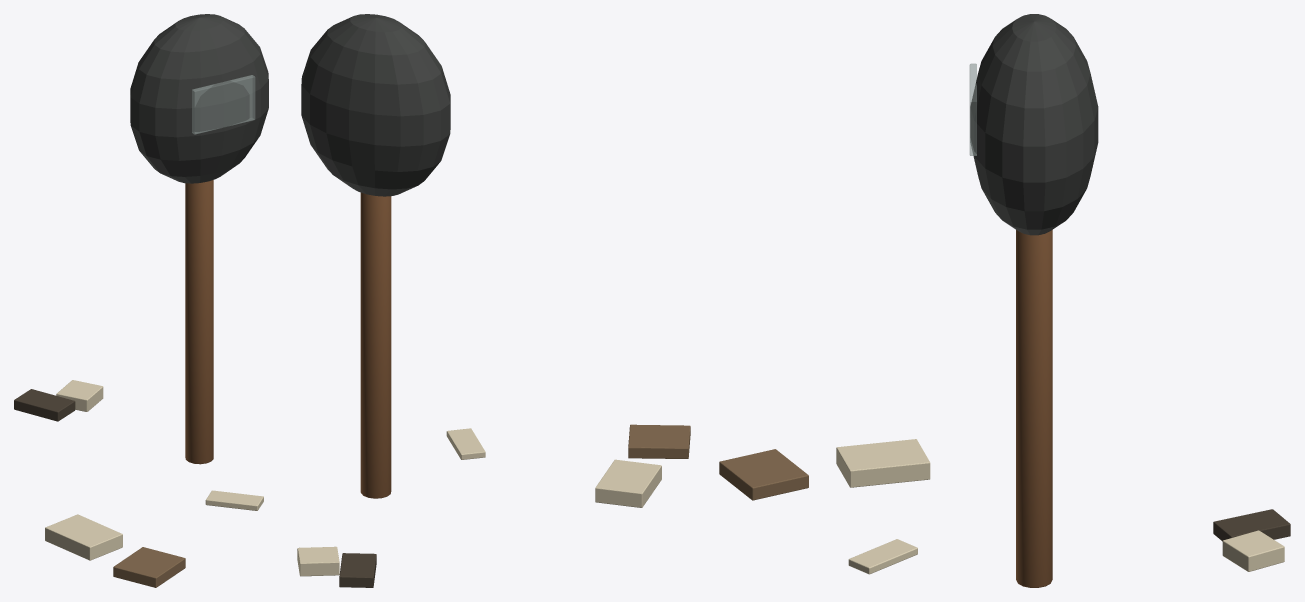
File: dz_urban_parking_meter_premium.glb
3 views of the same model, side by side, from view 1: azimuth 30°, elevation 25°; view 2: azimuth 150°, elevation 25°; view 3: azimuth 270°, elevation 25° (orthographic). The views are drawn at different scales.
Visible parts, largest first — view 1: parking_meter_head, parking_meter_post, parking_meter_glass, parking_debris_03, parking_debris_01, parking_debris_02, parking_debris_00, parking_debris_04; view 2: parking_meter_head, parking_meter_post, parking_debris_03, parking_debris_01, parking_debris_02, parking_debris_00, parking_debris_04; view 3: parking_meter_head, parking_meter_post, parking_debris_03, parking_debris_01, parking_debris_00, parking_debris_02, parking_debris_04, parking_meter_glass.
Boxes of the visible parts, box(x1,y1,x2,y2) form: parking_meter_head: box(130, 14, 268, 183); parking_meter_post: box(185, 180, 213, 464); parking_meter_glass: box(192, 75, 255, 134); parking_debris_03: box(45, 514, 122, 560); parking_debris_01: box(113, 547, 185, 587); parking_debris_02: box(14, 389, 75, 421); parking_debris_00: box(56, 380, 103, 411); parking_debris_04: box(205, 490, 263, 510); parking_meter_head: box(301, 14, 450, 196); parking_meter_post: box(360, 192, 391, 498); parking_debris_03: box(595, 459, 661, 507); parking_debris_01: box(628, 424, 690, 458); parking_debris_02: box(339, 553, 376, 587); parking_debris_00: box(297, 546, 339, 576); parking_debris_04: box(446, 428, 485, 459); parking_meter_head: box(970, 14, 1098, 235); parking_meter_post: box(1016, 230, 1052, 587); parking_debris_03: box(836, 439, 930, 487); parking_debris_01: box(719, 449, 808, 500); parking_debris_00: box(1222, 530, 1284, 571); parking_debris_02: box(1213, 509, 1290, 541); parking_debris_04: box(848, 539, 917, 574); parking_meter_glass: box(969, 63, 976, 155).
Bounding box in the file's own units: 0.9574 × 1.52 × 1.41.
